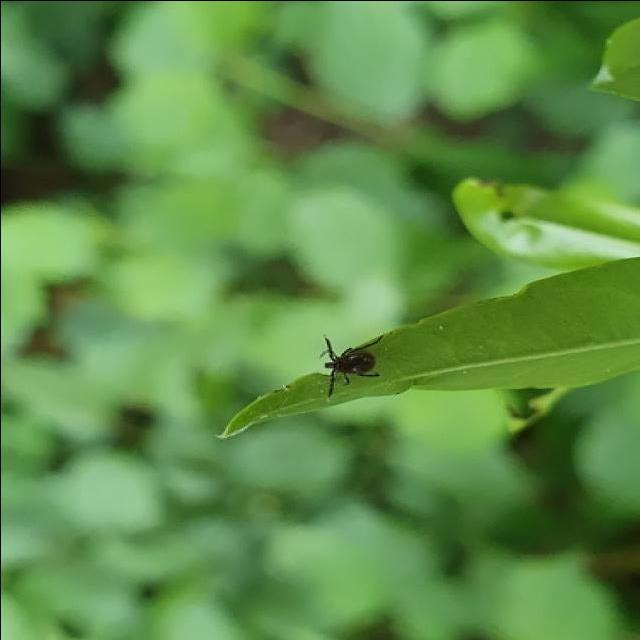Ixodes Ricinus-M: (321, 333, 394, 396)
